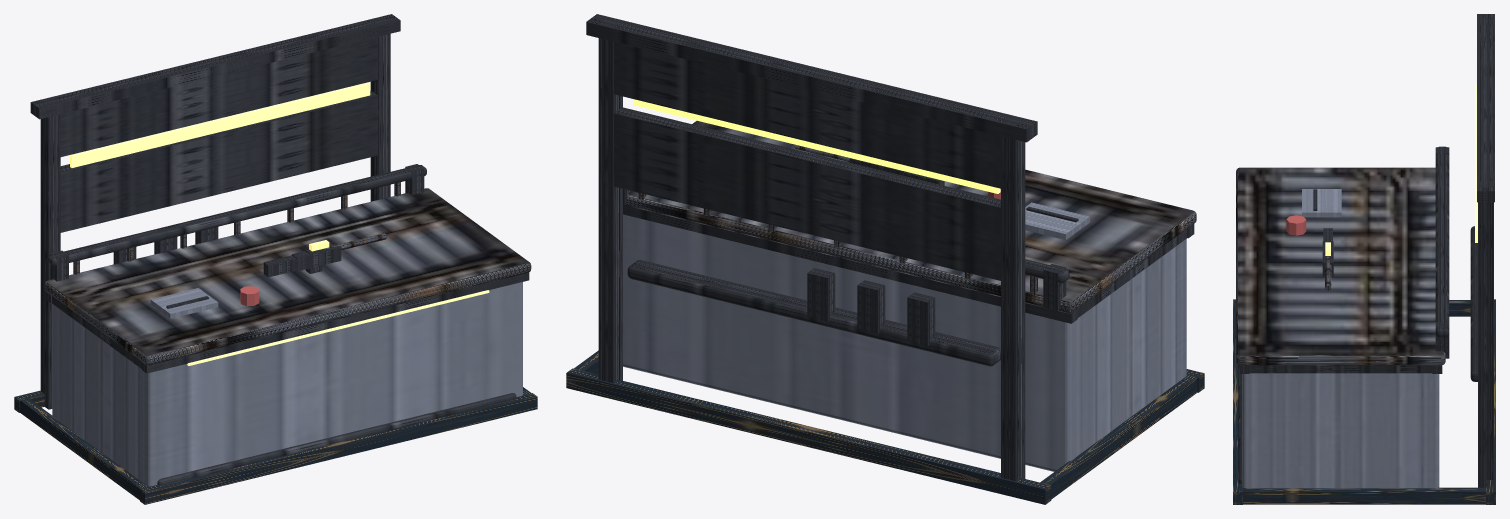
Rendered from armory_issuedesk.glb.
The picture shows the model from 3 angles, left to right: view 1: azimuth 30°, elevation 25°; view 2: azimuth 150°, elevation 25°; view 3: azimuth 270°, elevation 25°; orthographic projection. The views are drawn at different scales.
Parts seen in each view (by area): view 1: counter, sight_shell, top, shelltoe0, grail, sightglow, shellrim0, kick, shelltoes0, book, shellglow, issue_recv (+1 smaller); view 2: sight_shell, counter, top, shelltoe2, rack, shellrim2, shelltoes0, sightglow, book, mag0, mag1, mag2 (+2 smaller); view 3: top, counter, sight_shell, shelltoes2, grail, shellrims2, rack, shelltoe0, book, shelltoe2, kick, stamp (+3 smaller).
Part boxes in pixels (bbox=[...]): counter: bbox=[52, 282, 522, 486]; sight_shell: bbox=[30, 14, 400, 409]; top: bbox=[44, 188, 531, 365]; shelltoe0: bbox=[140, 393, 537, 504]; grail: bbox=[47, 165, 426, 266]; sightglow: bbox=[70, 82, 370, 167]; shellrim0: bbox=[142, 272, 529, 373]; kick: bbox=[157, 393, 516, 485]; shelltoes0: bbox=[20, 397, 148, 500]; book: bbox=[150, 288, 218, 318]; shellglow: bbox=[187, 290, 489, 365]; issue_recv: bbox=[291, 243, 341, 271]; sight_shell: bbox=[586, 14, 1037, 481]; counter: bbox=[623, 214, 1186, 471]; top: bbox=[624, 120, 1196, 313]; shelltoe2: bbox=[566, 368, 1051, 504]; rack: bbox=[627, 260, 1000, 366]; shellrim2: bbox=[623, 205, 1077, 323]; shelltoes0: bbox=[1040, 375, 1198, 499]; sightglow: bbox=[634, 99, 1000, 193]; book: bbox=[1025, 202, 1089, 239]; mag0: bbox=[907, 292, 935, 345]; mag1: bbox=[857, 280, 885, 333]; mag2: bbox=[807, 268, 835, 321]; top: bbox=[1236, 167, 1445, 365]; counter: bbox=[1242, 373, 1439, 488]; sight_shell: bbox=[1477, 14, 1494, 487]; shelltoes2: bbox=[1240, 487, 1488, 504]; grail: bbox=[1435, 146, 1449, 337]; shellrims2: bbox=[1249, 365, 1432, 373]; rack: bbox=[1470, 226, 1477, 381]; shelltoe0: bbox=[1233, 299, 1242, 504]; book: bbox=[1302, 189, 1341, 217]; shelltoe2: bbox=[1486, 299, 1495, 504]; kick: bbox=[1238, 365, 1242, 483]; stamp: bbox=[1286, 215, 1306, 235].
Bounding box in the file's own units: 2.3 × 1.7 × 1.32.
9 materials, 6 textured.
